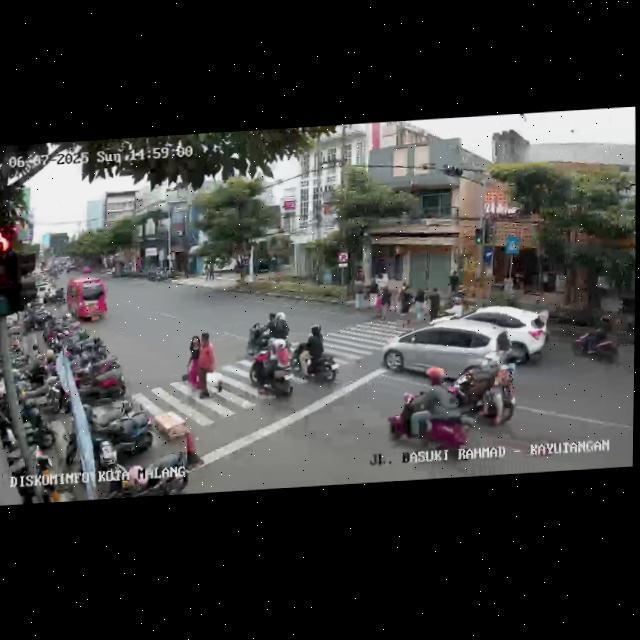car: (381, 315, 512, 378), (430, 301, 547, 367), (64, 275, 108, 325)
motorcycle: (388, 368, 475, 467), (449, 350, 517, 428), (570, 313, 631, 369), (289, 322, 340, 387), (248, 337, 293, 400), (246, 311, 291, 357)
person: (198, 331, 215, 404), (186, 335, 203, 391), (352, 266, 366, 310), (412, 286, 428, 320), (379, 285, 393, 322), (427, 286, 441, 321), (398, 281, 411, 316), (368, 271, 379, 307)
